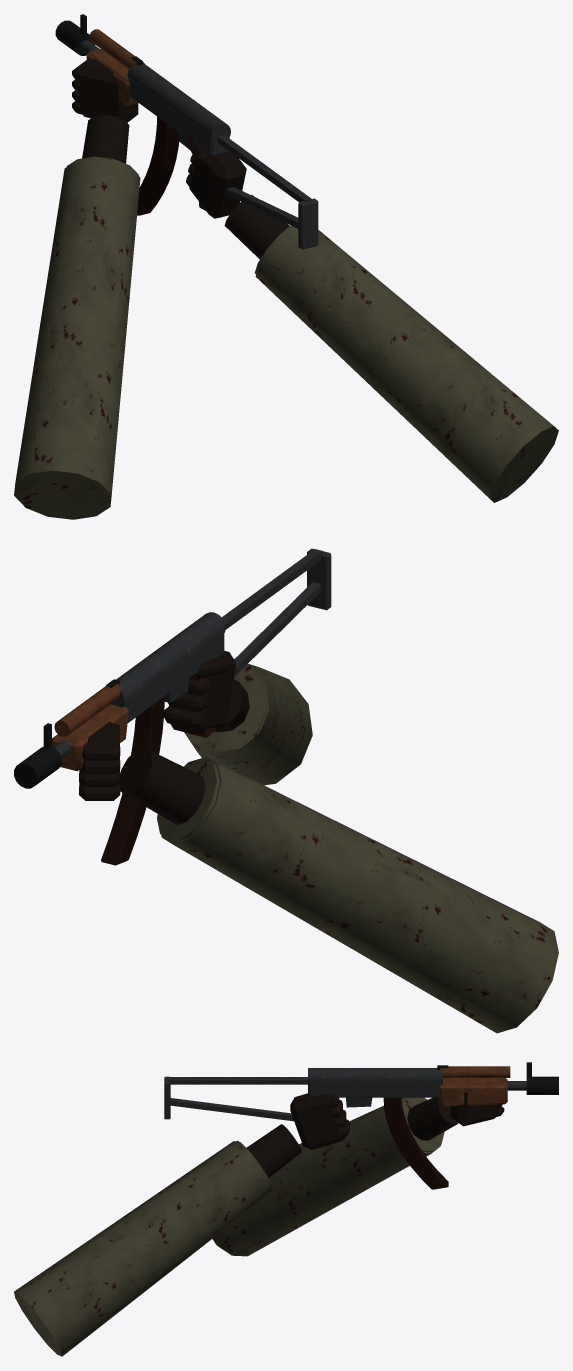
The picture shows the model from 3 angles, top to bottom: view 1: azimuth 30°, elevation 25°; view 2: azimuth 150°, elevation 25°; view 3: azimuth 270°, elevation 25°; orthographic projection. The views are drawn at different scales.
Visible parts, largest first — view 1: Body, ArmL, Mag; view 2: ArmL, Body, Mag; view 3: Body, ArmL, Mag.
Part boxes in pixels (bbox=[...]): Body: bbox=[55, 14, 558, 502]; ArmL: bbox=[14, 59, 140, 519]; Mag: bbox=[137, 116, 179, 215]; ArmL: bbox=[79, 721, 558, 1033]; Body: bbox=[14, 548, 331, 788]; Mag: bbox=[101, 696, 164, 865]; Body: bbox=[14, 1062, 558, 1356]; ArmL: bbox=[212, 1092, 504, 1256]; Mag: bbox=[383, 1097, 448, 1189].
Bounding box in the file's own units: 0.7208 × 0.5441 × 1.01.
7 materials, 7 textured.
